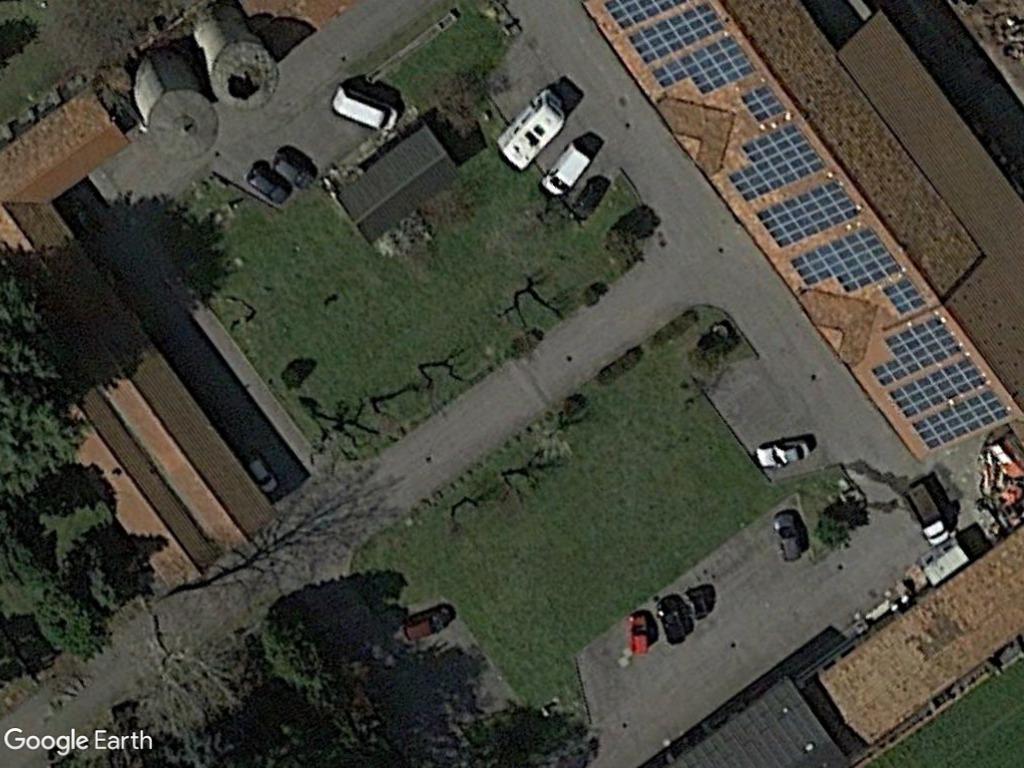car: (771, 506, 809, 567), (624, 608, 655, 658)
other: (899, 478, 953, 548)
van: (328, 82, 401, 136), (536, 138, 594, 201)
